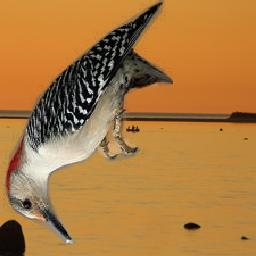Woodpecker: (3, 0, 173, 244)
